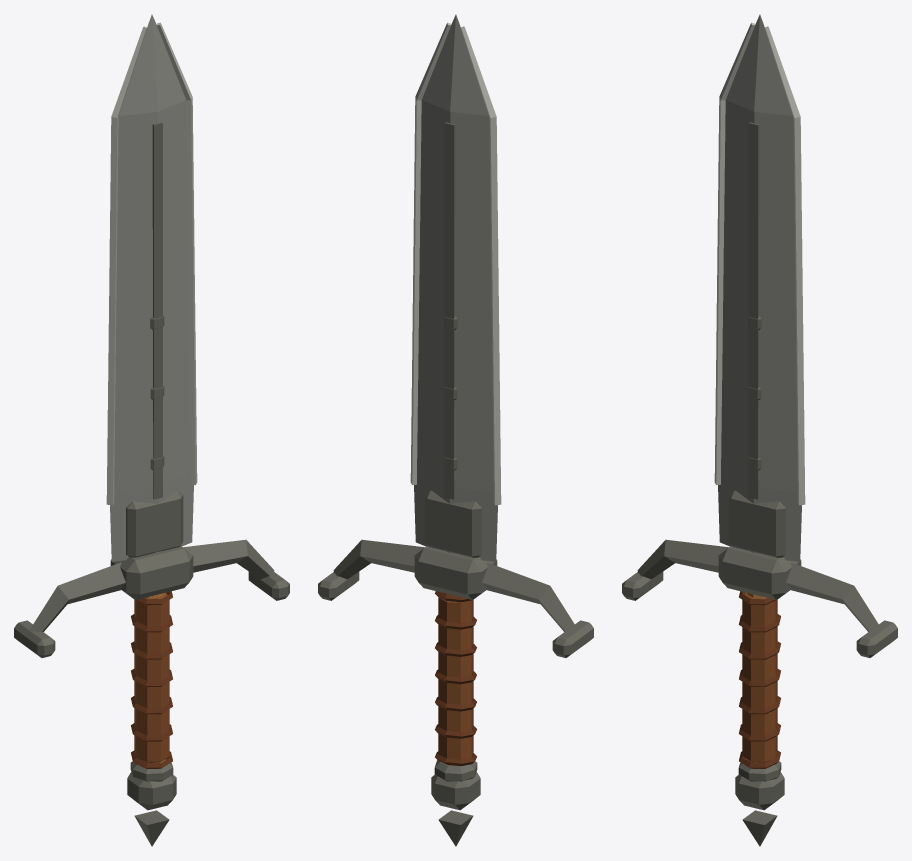
Rendered from StoneGreatsword.fbx.
3 renders of one model, left to right at view 1: azimuth 30°, elevation 25°; view 2: azimuth 150°, elevation 25°; view 3: azimuth 330°, elevation 25°, orthographic.
Visible parts, largest first — view 1: StoneGreatsword; view 2: StoneGreatsword; view 3: StoneGreatsword.
Boxes of the visible parts, x1,y1,x2,y2 form: StoneGreatsword: [14, 14, 289, 846]; StoneGreatsword: [318, 14, 593, 846]; StoneGreatsword: [622, 14, 897, 846].
Bounding box in the file's own units: 2.26 × 7.12 × 0.44.
1 material, 1 textured.
